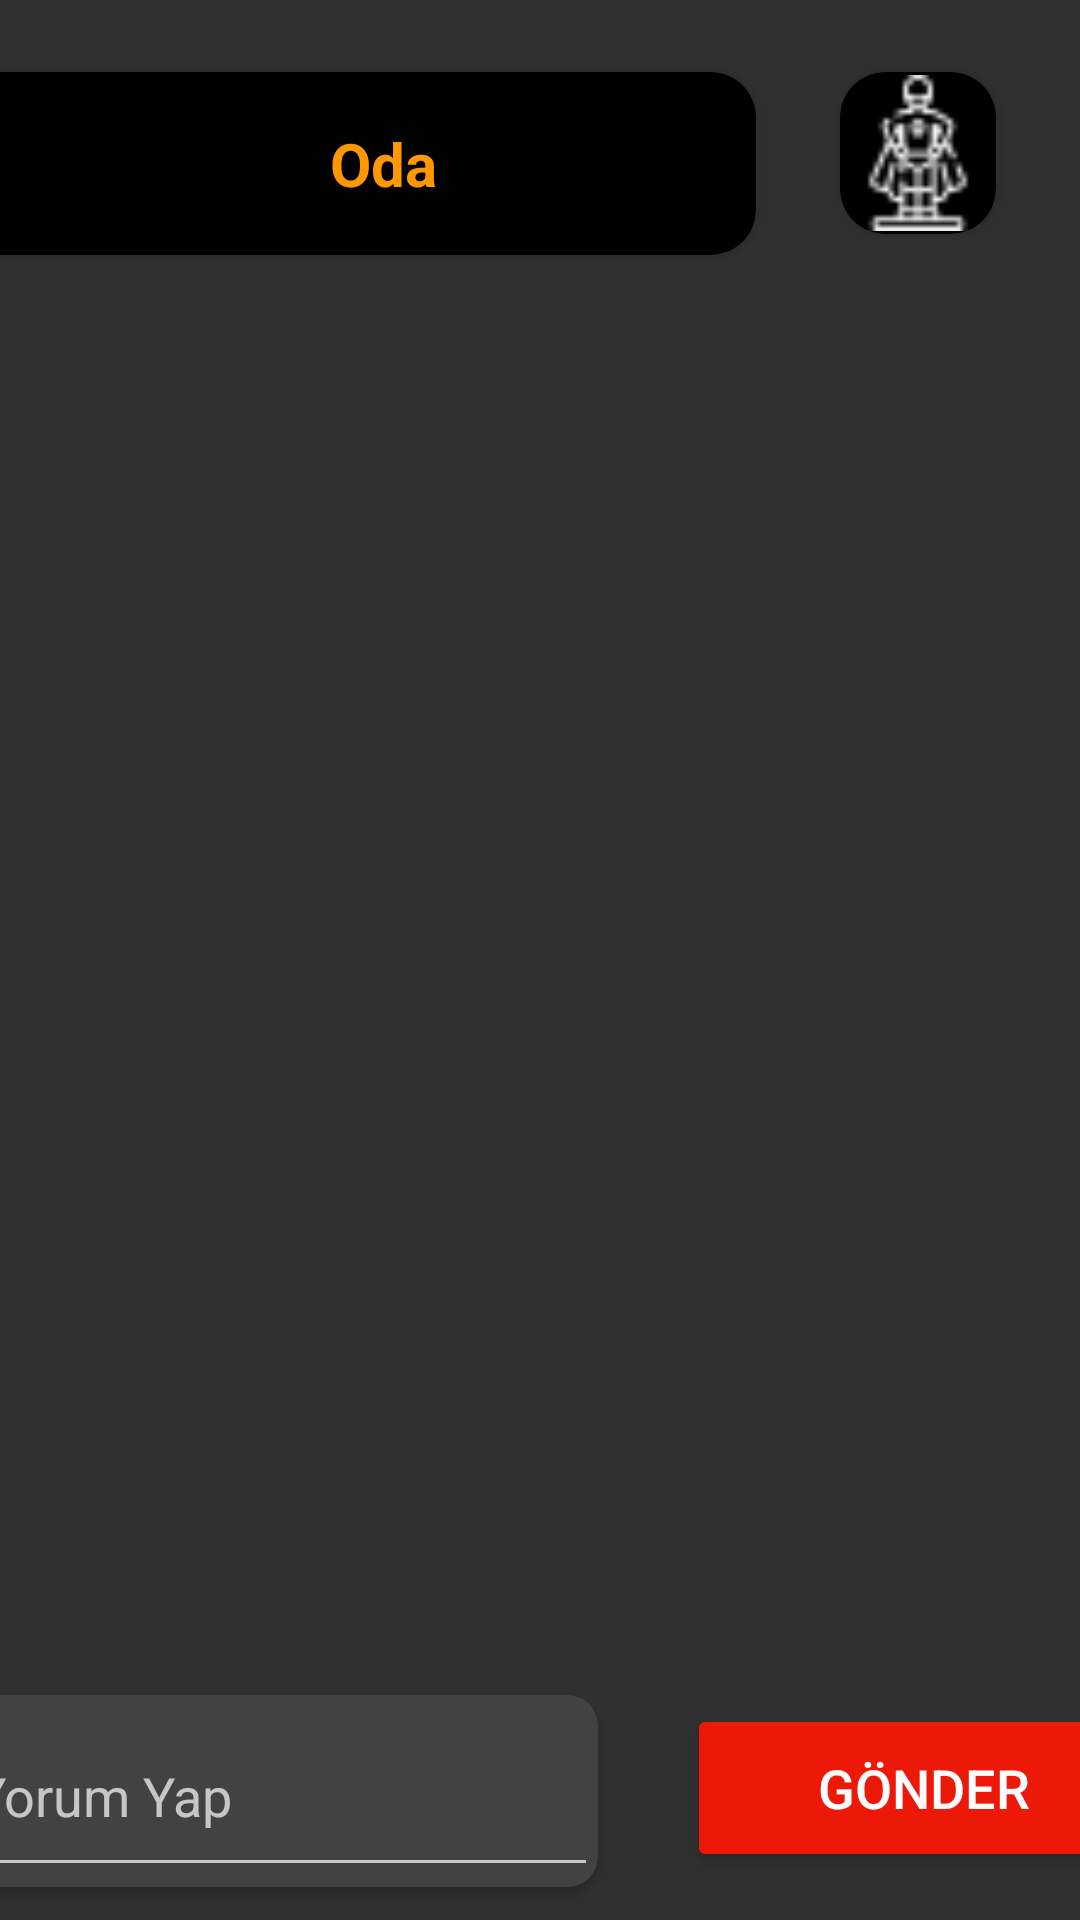

Where to tap for icons on this 1080w x 1920h app screen, as point (x, y):
aksiyon: point (918, 153)
